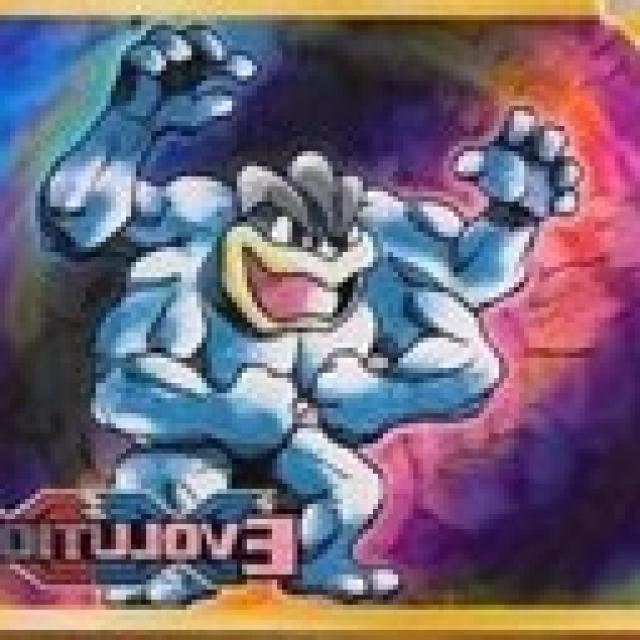Machamp: (98, 159, 473, 599)
